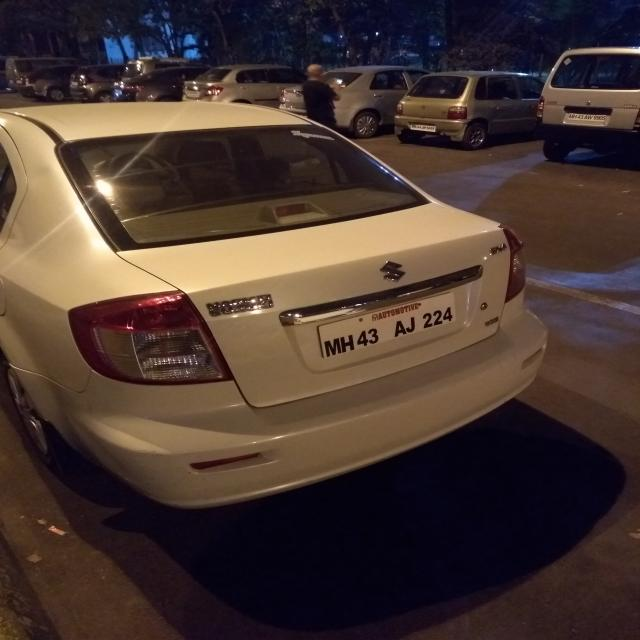Number-Plate: (316, 293, 460, 364)
